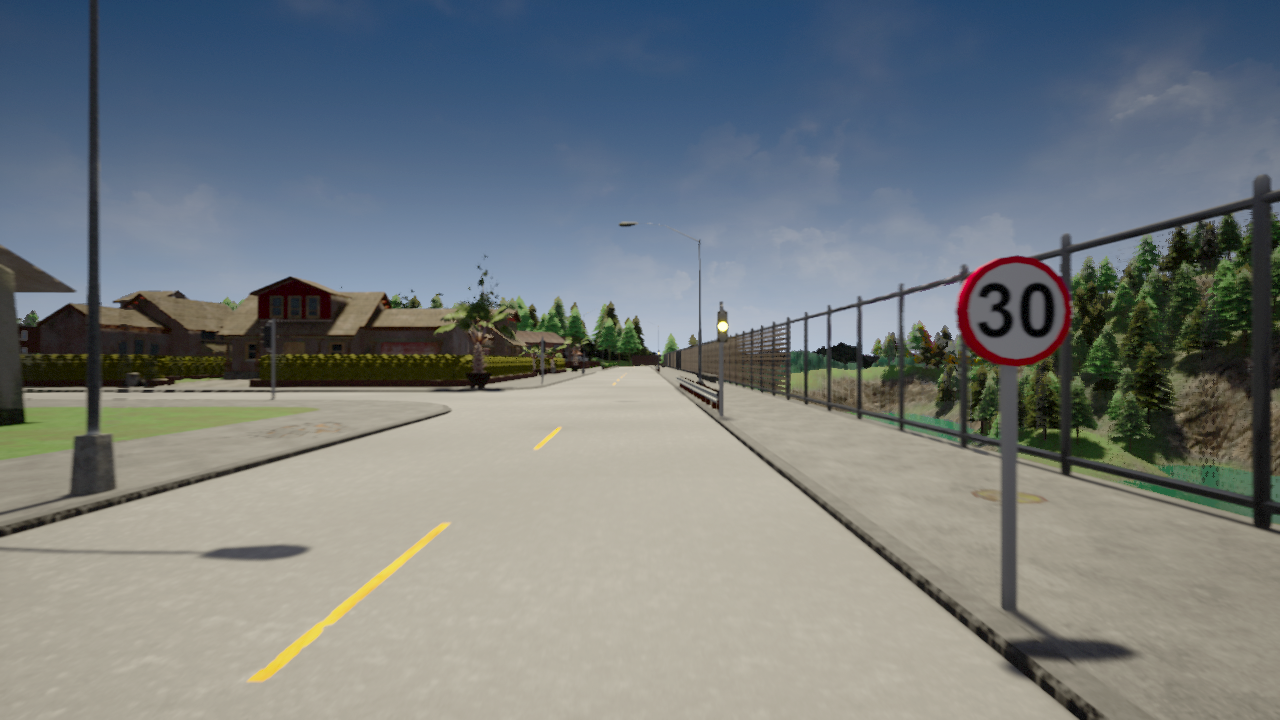yellow: (716, 308, 730, 344)
